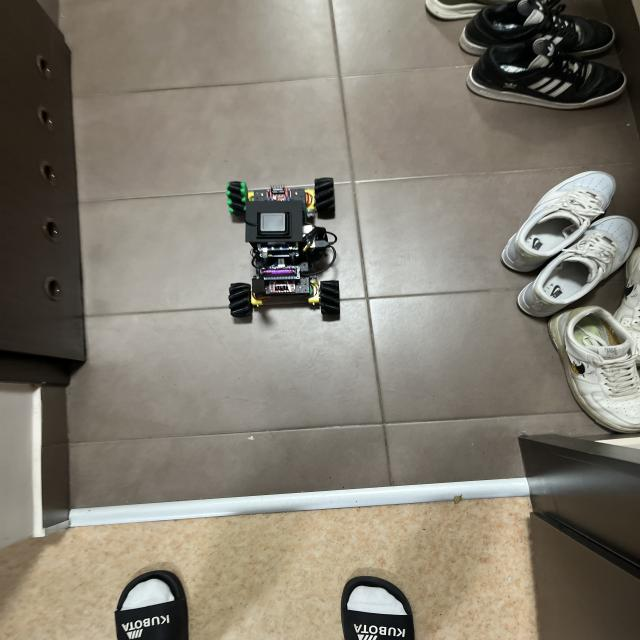robot: (226, 177, 340, 317)
